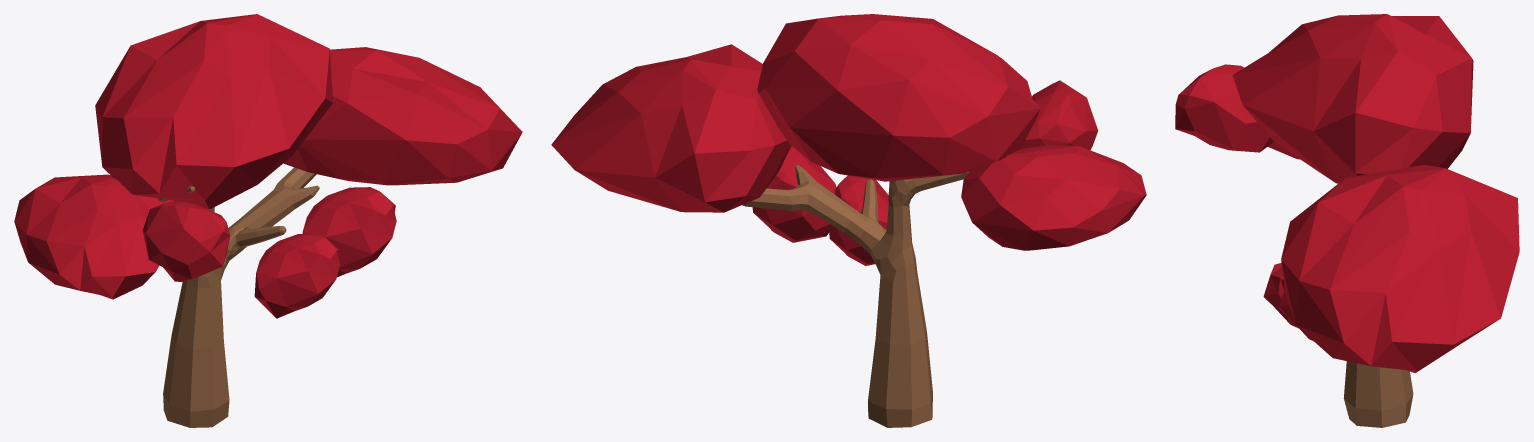
Rendered from tree-dead-complete-5-009.glb.
The picture shows the model from 3 angles, left to right: view 1: azimuth 30°, elevation 25°; view 2: azimuth 150°, elevation 25°; view 3: azimuth 270°, elevation 25°; orthographic projection. The views are drawn at different scales.
Parts seen in each view (by area): view 1: TREE 5.007_514, TREE 5.006_515; view 2: TREE 5.007_514, TREE 5.006_515; view 3: TREE 5.007_514, TREE 5.006_515.
Boxes of the visible parts, left/top/right/bottom form: TREE 5.007_514: left=14, top=14, right=522, bottom=318; TREE 5.006_515: left=157, top=167, right=319, bottom=427; TREE 5.007_514: left=551, top=14, right=1146, bottom=265; TREE 5.006_515: left=742, top=165, right=968, bottom=427; TREE 5.007_514: left=1175, top=14, right=1519, bottom=373; TREE 5.006_515: left=1343, top=361, right=1413, bottom=427.
Bounding box in the file's own units: 1.99 × 1.48 × 1.12.
